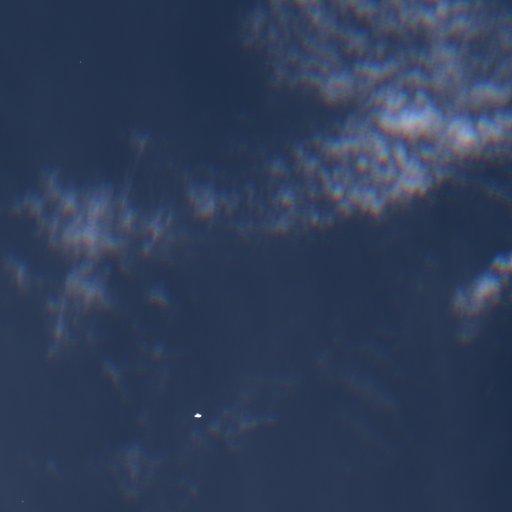Iceberg: (194, 413, 201, 417), (79, 61, 80, 62), (22, 500, 23, 501)
